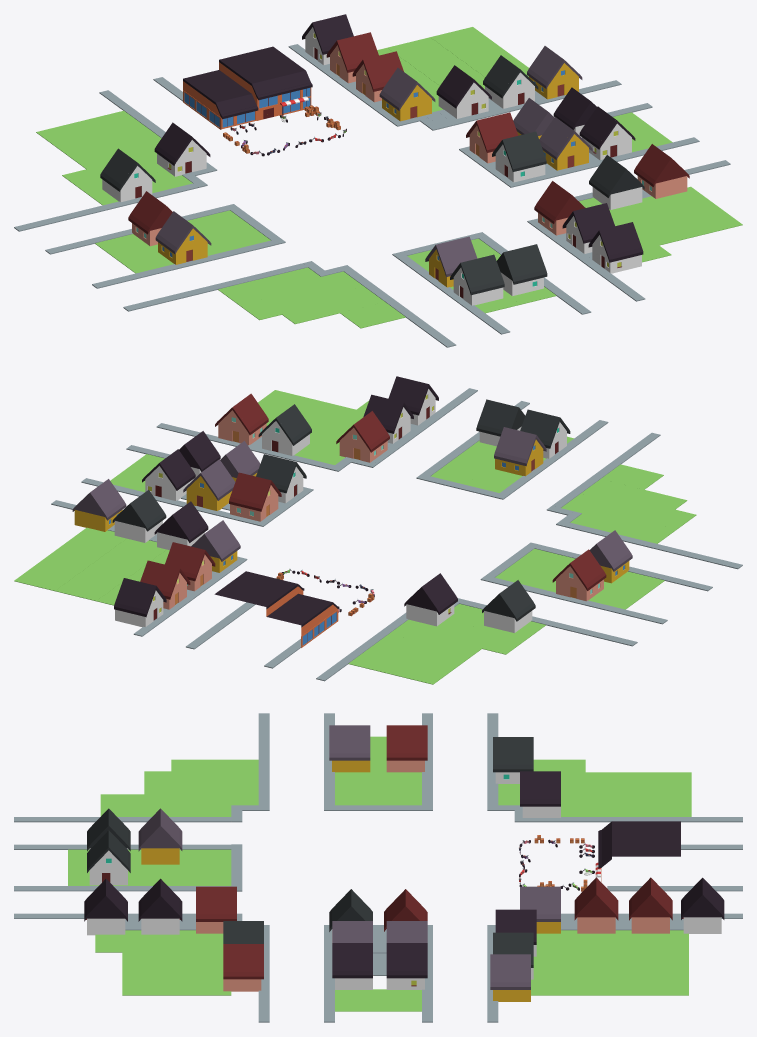
Rendered from MapDecor.fbx.
The picture shows the model from 3 angles, top to bottom: view 1: azimuth 30°, elevation 25°; view 2: azimuth 150°, elevation 25°; view 3: azimuth 270°, elevation 25°; orthographic projection. The views are drawn at different scales.
Visible parts, largest first — view 1: House2.009, House2.008, House2.005, House2.003, House3.003, House2.007, House2.004, House2.002, House1.005, House1.001, House2.010, House2.011 (+45 smaller); view 2: House2.012, House1.004, House3.001, House2.002, House2.010, House2.011, House1.006, House3.002, House2.003, House3.004, House3.003, House1.003 (+51 smaller); view 3: House1.005, House3.004, House1.004, House3.005, House2.006, House3.003, House2.013, House2.009, House2.012, House3.006, House1.006, House2.002 (+57 smaller).
Part boxes in pixels (x1,y1,x2,y2): House2.009: (588, 222, 643, 273); House2.008: (450, 254, 504, 305); House2.005: (492, 131, 546, 182); House2.003: (589, 155, 644, 209); House3.003: (634, 144, 689, 198); House2.007: (496, 244, 547, 295); House2.004: (436, 65, 491, 118); House2.002: (154, 122, 210, 176); House1.005: (155, 211, 211, 264); House1.001: (379, 67, 435, 121); House2.010: (100, 148, 155, 202); House2.011: (483, 55, 538, 108); House2.012: (114, 578, 166, 627); House1.004: (494, 427, 546, 476); House3.001: (229, 472, 281, 521); House2.002: (404, 573, 457, 626); House2.010: (482, 580, 535, 632); House2.011: (112, 490, 166, 542); House1.006: (72, 479, 126, 531); House3.002: (336, 411, 389, 462); House2.003: (258, 404, 311, 455); House3.004: (552, 549, 606, 601); House3.003: (215, 393, 268, 445); House1.003: (183, 459, 235, 510); House1.005: (329, 725, 370, 772); House3.004: (386, 725, 427, 772); House1.004: (138, 808, 182, 864); House3.005: (574, 877, 618, 933); House2.006: (138, 878, 182, 934); House3.003: (223, 944, 263, 991); House2.013: (386, 943, 427, 989); House2.009: (84, 879, 127, 935); House2.012: (681, 877, 724, 933); House3.006: (629, 877, 672, 933); House1.006: (490, 954, 530, 1001); House2.002: (520, 771, 560, 817).
Bounding box in the file's own units: 26761 × 26761 × 1619.
